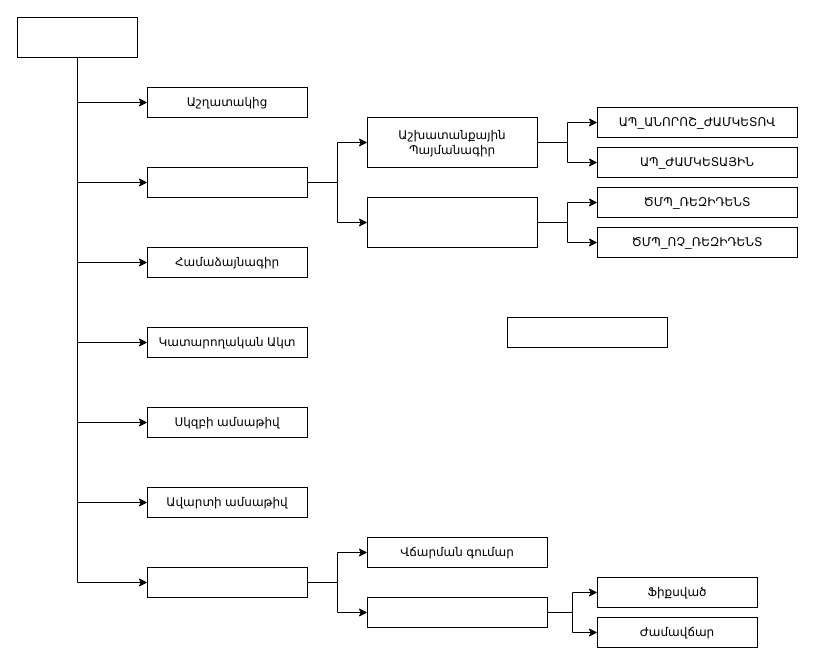
Image size: 815x665. Some labels were removed from this diagram. The shapes that lost their labels are listed below. From the top down, each one's centre as x and y in pixels, then its label:
[77,37]: Պայմանագիր
[227,182]: Պայմանագրի տեսակ
[452,222]: Ծառայությունների Մատուման Պայմանագիր
[587,332]: Գրանցում
[227,582]: Վճար
[457,612]: Վճարման տեսակ
